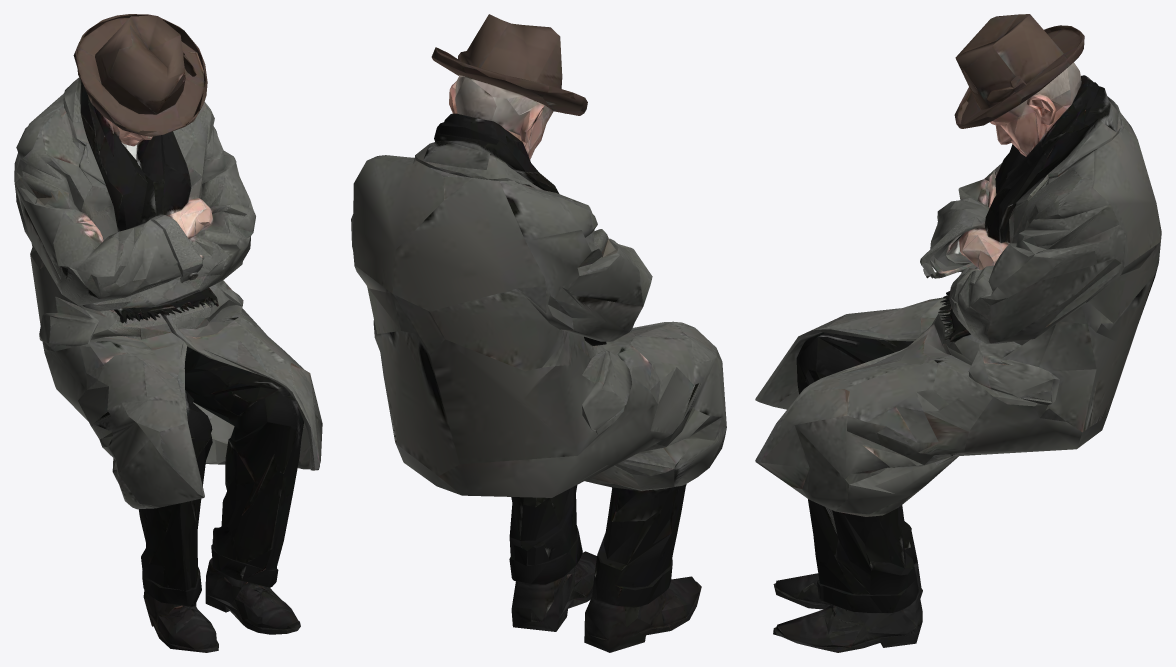
The model's file is passenger_e.glb.
3 renders of one model, left to right at view 1: azimuth 30°, elevation 25°; view 2: azimuth 150°, elevation 25°; view 3: azimuth 270°, elevation 25°, orthographic. The views are drawn at different scales.
Parts seen in each view (by area): view 1: Mesh_0; view 2: Mesh_0; view 3: Mesh_0.
Part boxes in pixels (x1=…): Mesh_0: x1=14, y1=14, x2=322, y2=652; Mesh_0: x1=351, y1=14, x2=726, y2=652; Mesh_0: x1=755, y1=14, x2=1161, y2=652.
Bounding box in the file's own units: 0.7367 × 1.9 × 1.16.
Materials: 1 (1 with a texture image).
